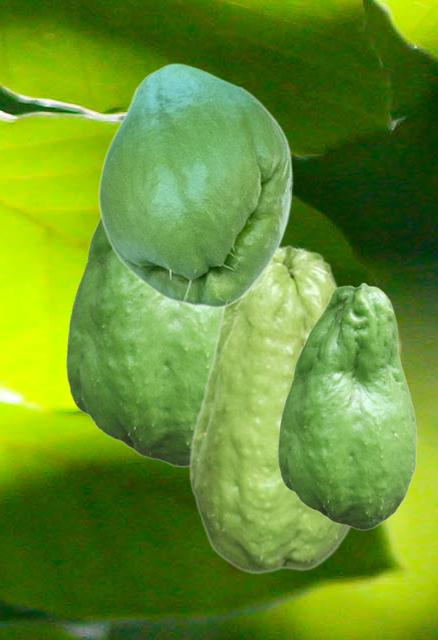sayote: (188, 244, 351, 574), (97, 63, 292, 308), (65, 215, 220, 466), (277, 282, 416, 529)
